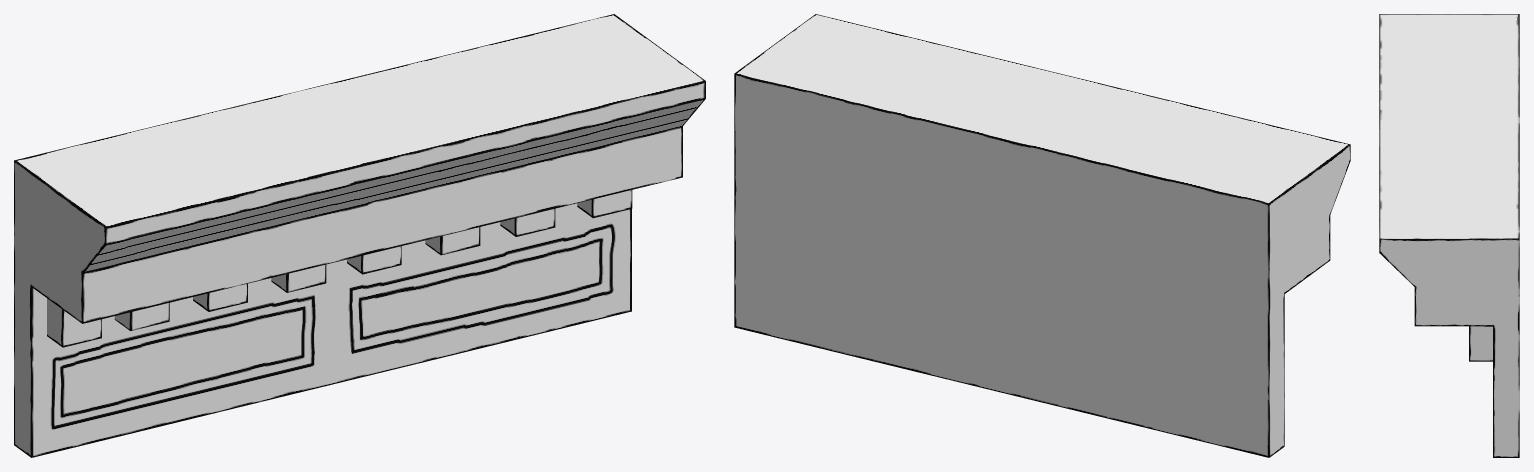
The model's file is Trim02_main.glb.
3 renders of one model, left to right at view 1: azimuth 30°, elevation 25°; view 2: azimuth 150°, elevation 25°; view 3: azimuth 270°, elevation 25°, orthographic. The views are drawn at different scales.
Visible parts, largest first — view 1: Trim02_main; view 2: Trim02_main; view 3: Trim02_main.
Part boxes in pixels (bbox=[...]): Trim02_main: bbox=[14, 14, 705, 457]; Trim02_main: bbox=[734, 14, 1350, 457]; Trim02_main: bbox=[1379, 14, 1519, 457].
Size of the model in its own units: 2 by 0.9062 by 0.5279.
1 material, 1 textured.
